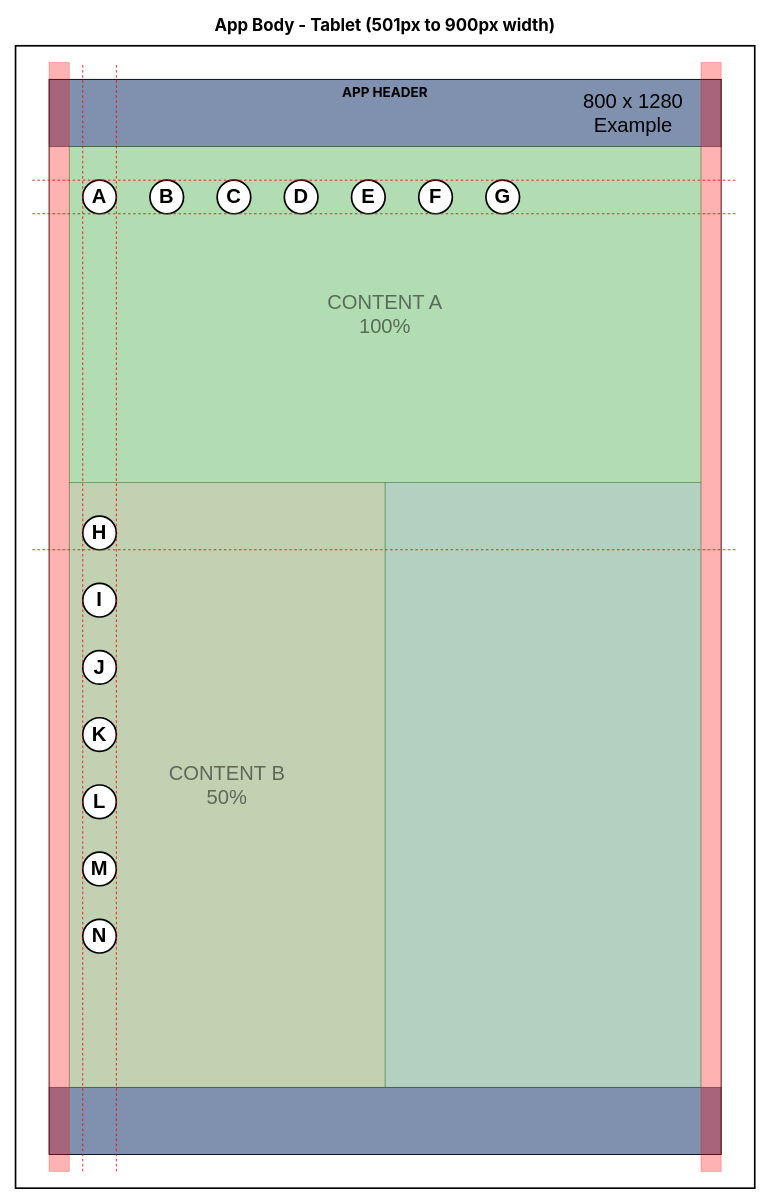
This 769x1203 diagram has some shape labels left out. The shapes that lost their labels are listed below. From the top down, each one's centre as x and y in pixels, then its label:
At [542,784]: "CONTENT C 50%".
At [384,1121]: "APP FOOTER".
